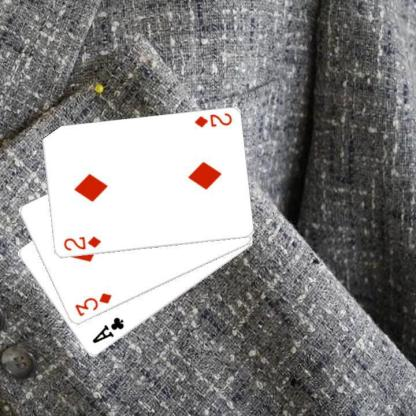2D: (192, 110, 233, 129), (61, 234, 102, 252)
3D: (72, 291, 113, 318)
AC: (89, 315, 125, 345)
